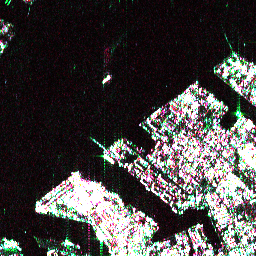ship: (100, 151, 117, 167), (99, 72, 112, 86)
